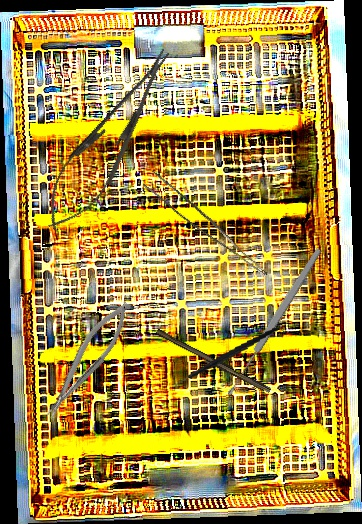Chopper: (166, 325, 286, 394)
Needle Holder: (31, 37, 188, 243), (33, 295, 141, 424)
Scalpel Handle: (153, 328, 273, 396)
Surgical Spoon: (224, 246, 324, 398)
Tissue Forceps: (140, 170, 278, 277)
